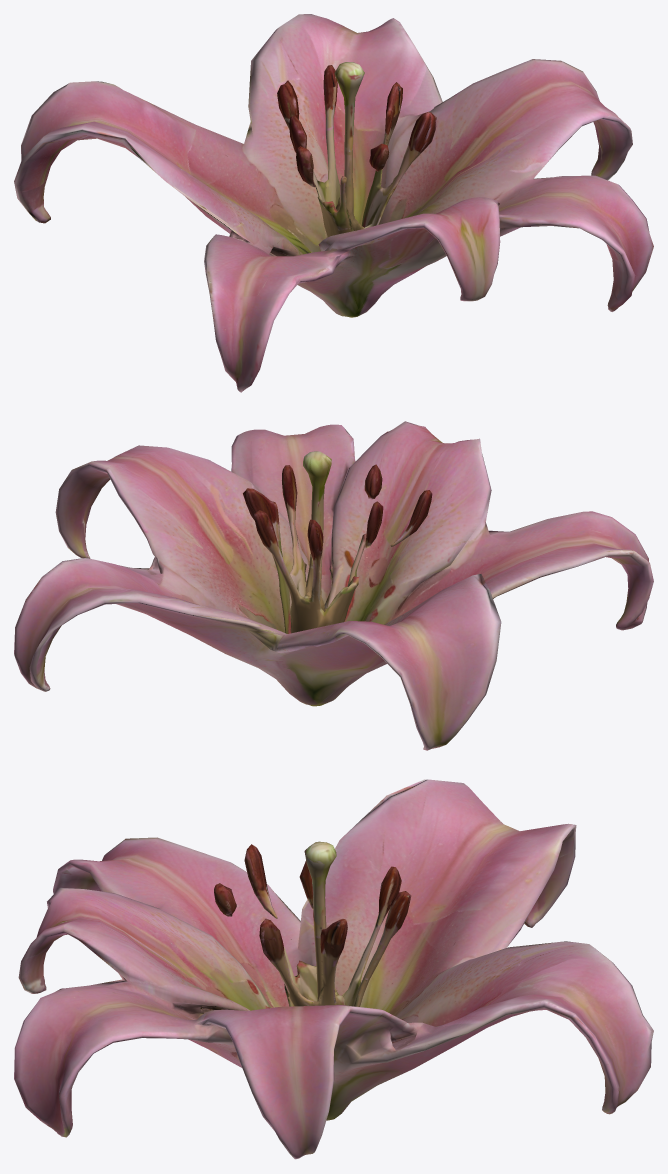
File: baihe_4774bde5.glb
3 renders of one model, top to bottom at view 1: azimuth 30°, elevation 25°; view 2: azimuth 150°, elevation 25°; view 3: azimuth 270°, elevation 25°, orthographic. The views are drawn at different scales.
Visible parts, largest first — view 1: Mesh_0; view 2: Mesh_0; view 3: Mesh_0.
Boxes of the visible parts, x1=… form: Mesh_0: x1=14, y1=14, x2=653, y2=392; Mesh_0: x1=14, y1=421, x2=653, y2=750; Mesh_0: x1=14, y1=779, x2=653, y2=1159.
Bounding box in the file's own units: 21.38 × 10 × 21.16.
1 material, 1 textured.
